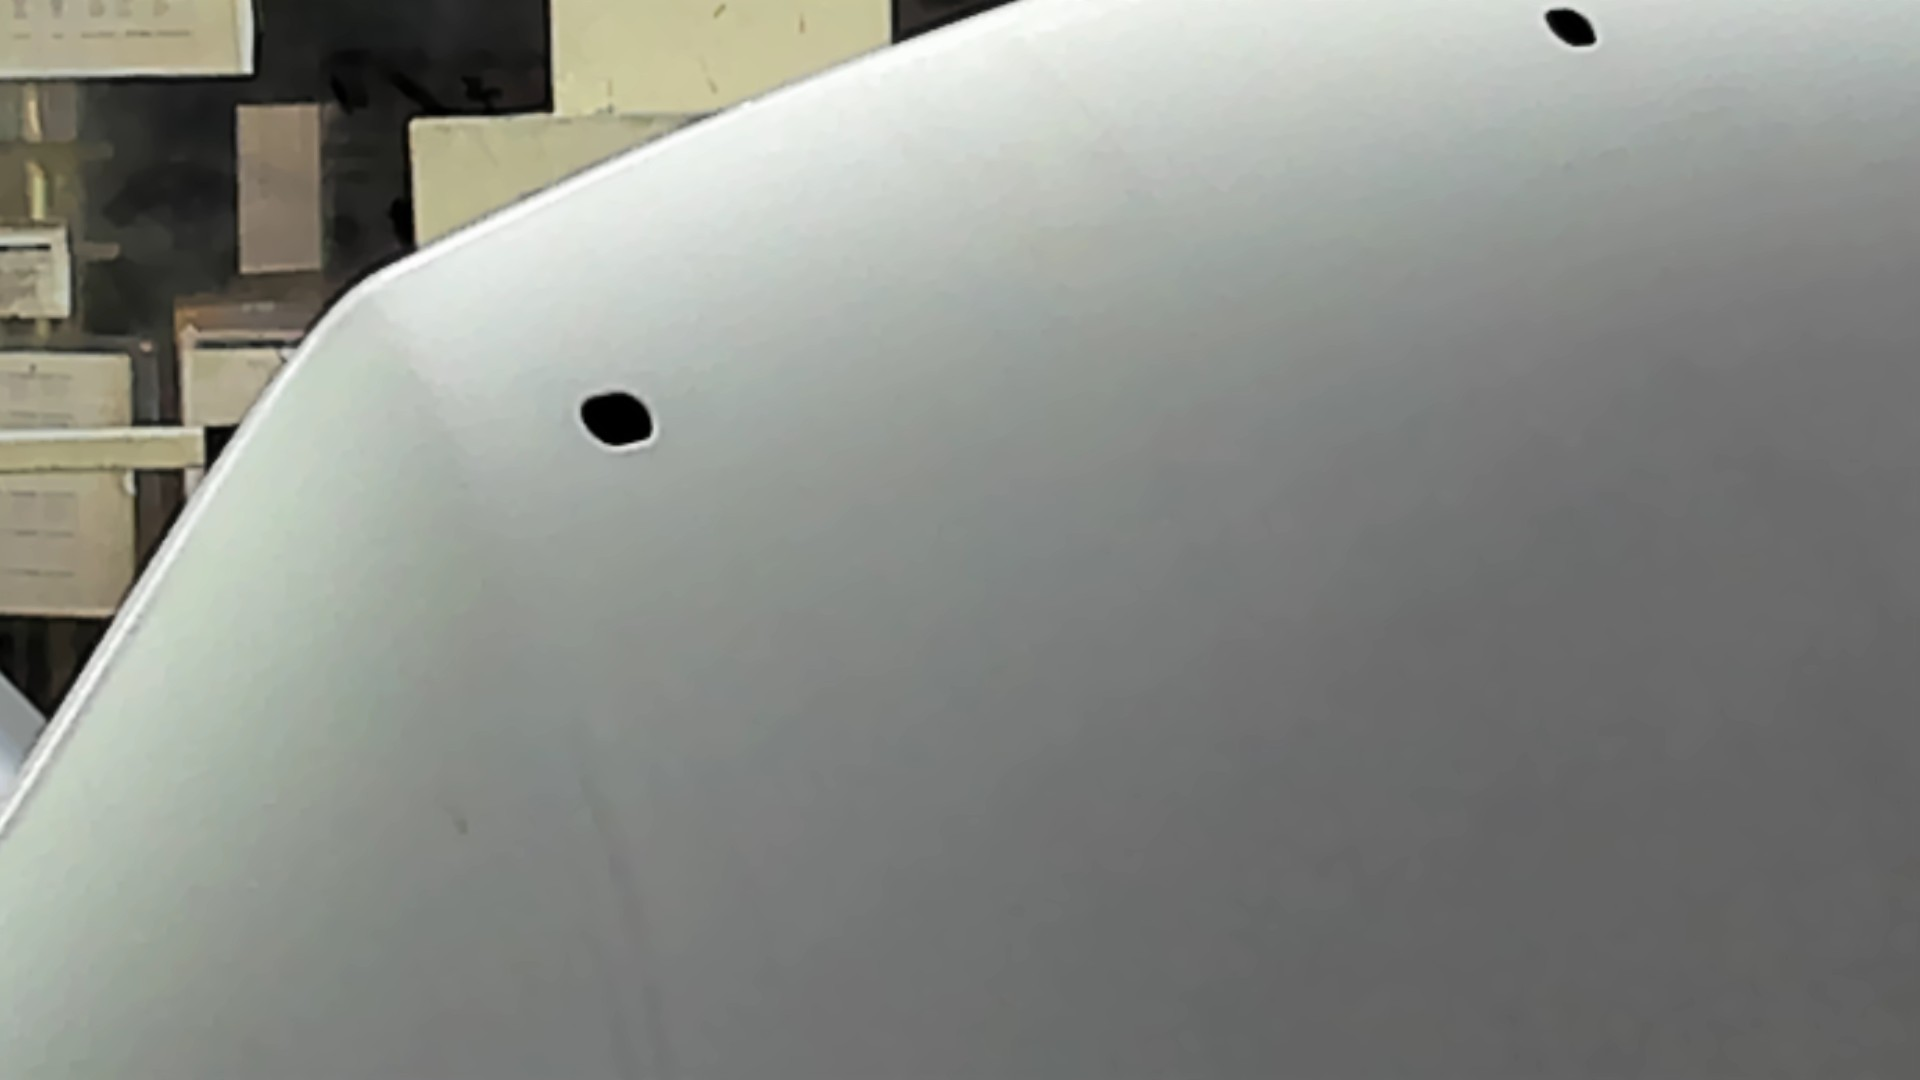amorfo: (574, 386, 666, 451), (1538, 7, 1605, 53)
